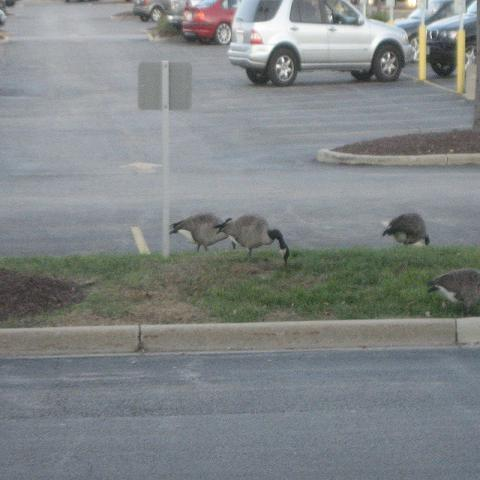car: (224, 0, 415, 86), (427, 0, 479, 78), (394, 0, 458, 63), (181, 1, 238, 44), (132, 0, 187, 23)
